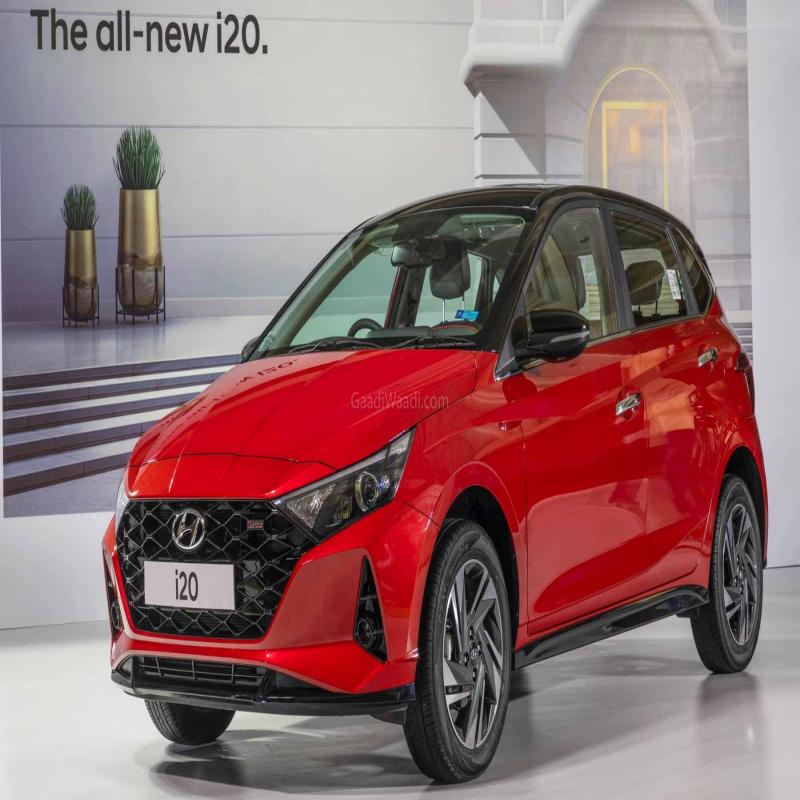car: (93, 199, 800, 754)
